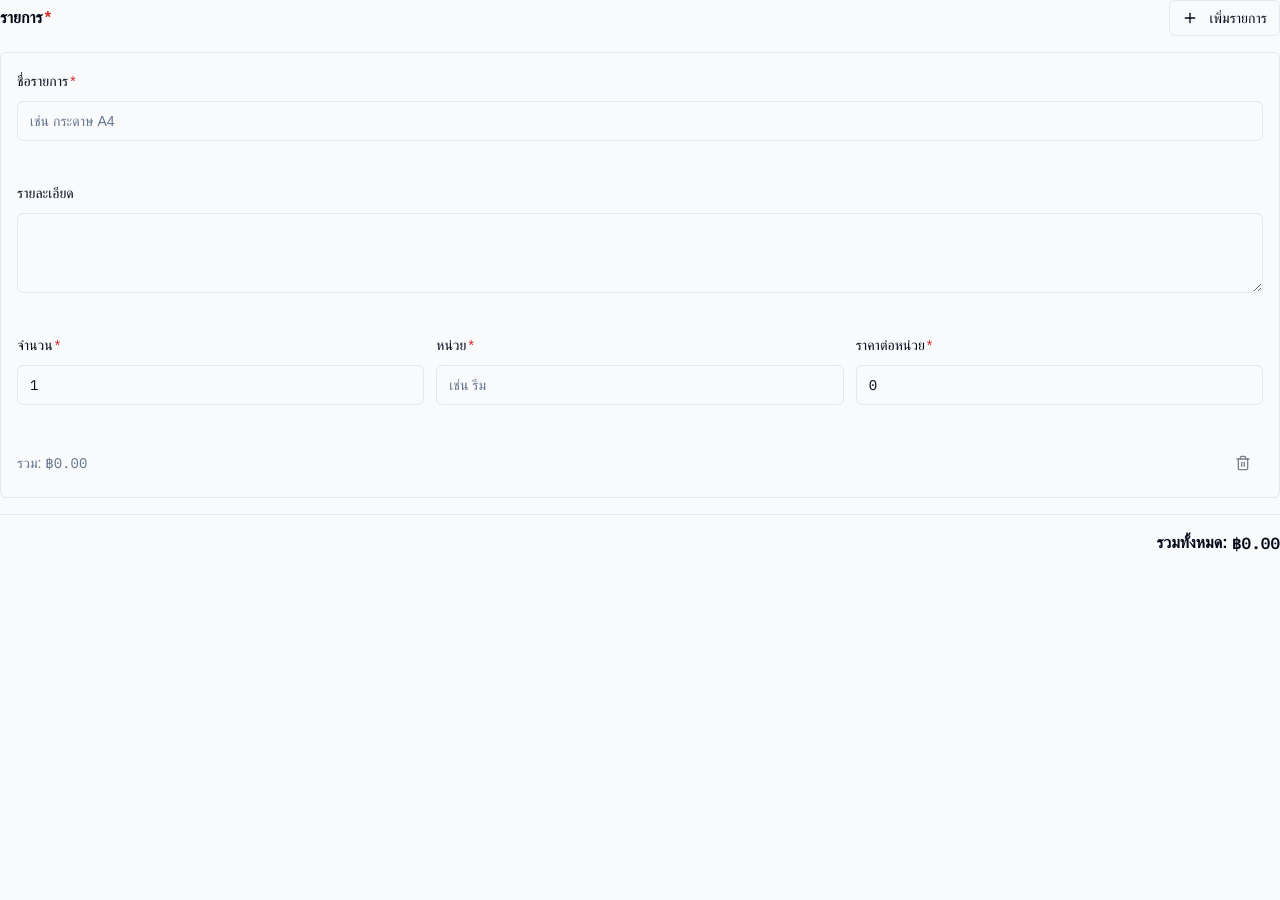
Scenario: PRItemsField › adds a row when clicking เพิ่มรายการ and enables remove
The width and height of the screenshot is (1280, 900).
Click the button "เพิ่มรายการ" at [1224, 18], box [1169,0,1279,36]
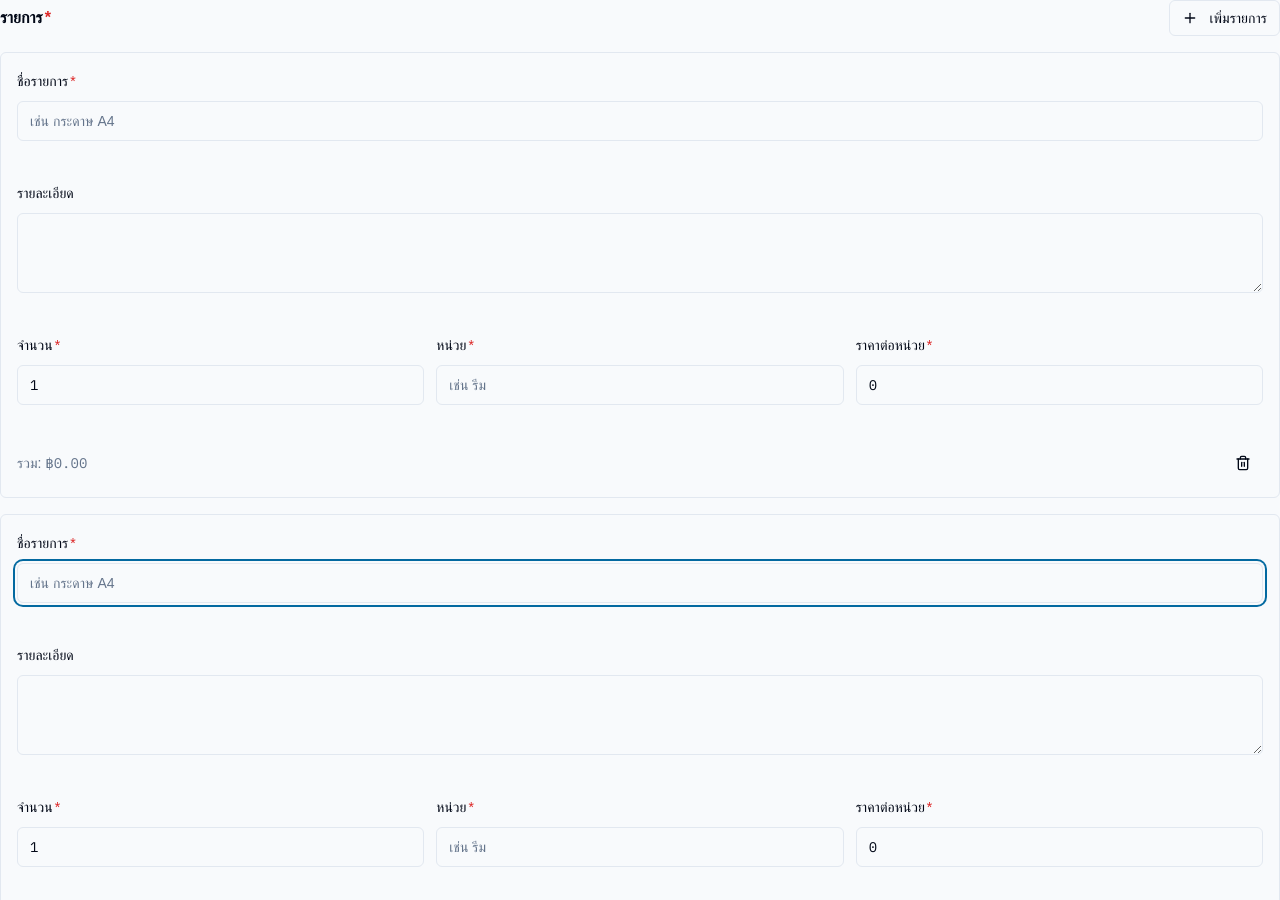
Check: the number of fields labelled "ชื่อรายการ*" is 2, box [17,101,1263,141]; [17,563,1263,603]
Check: the button named "ลบรายการ" is enabled, box [1223,445,1263,481]
